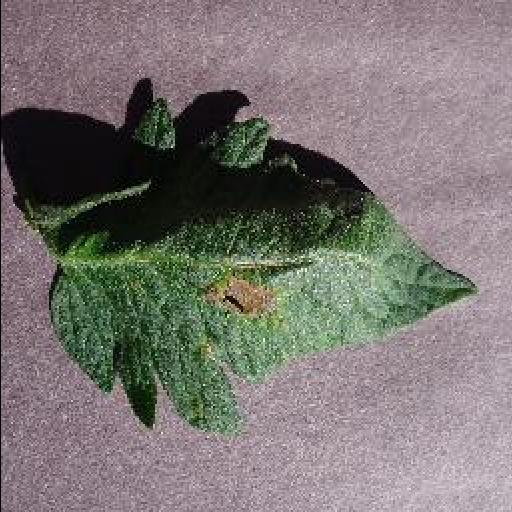disease_tomato: (23, 103, 473, 432)
